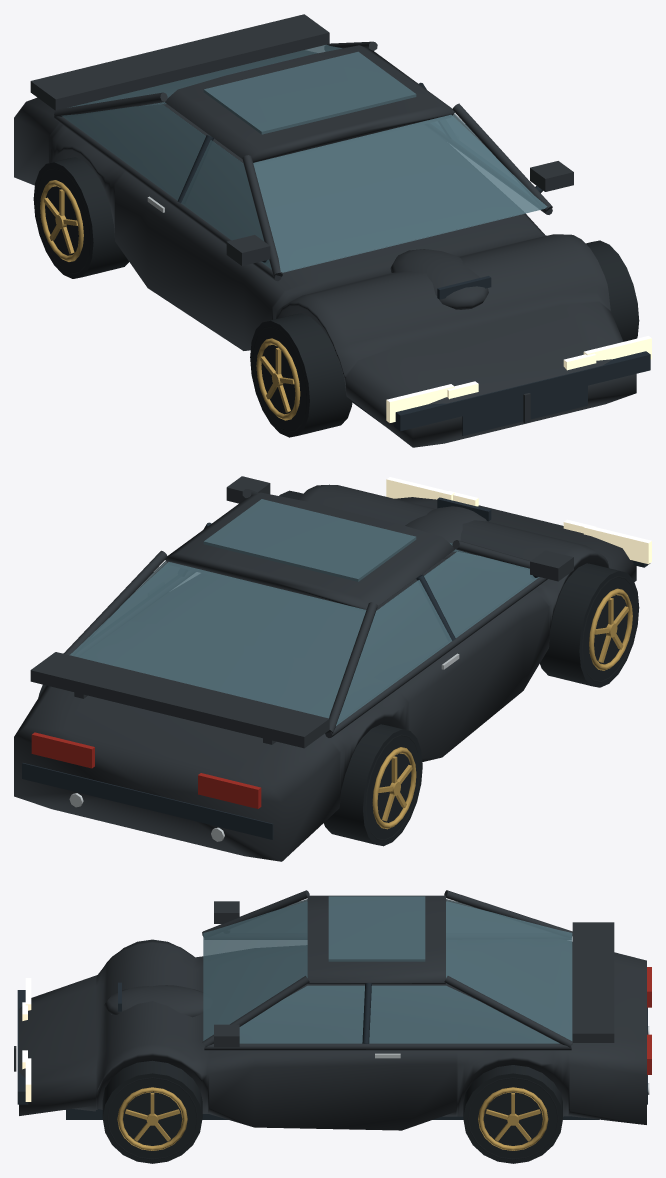
The model's file is firebird.glb.
The picture shows the model from 3 angles, top to bottom: view 1: azimuth 30°, elevation 25°; view 2: azimuth 150°, elevation 25°; view 3: azimuth 270°, elevation 25°; orthographic projection. The views are drawn at different scales.
Visible parts, largest first — view 1: exterior-paint, windows, black-trim, tire-front-left, tire-rear-left, headlights, tire-front-right, rim-front-left, rim-rear-left; view 2: exterior-paint, windows, tire-front-left, tire-rear-left, black-trim, taillights, headlights, rim-rear-left, rim-front-left; view 3: exterior-paint, windows, tire-front-right, tire-rear-right, black-trim, rim-front-right, rim-rear-right, headlights, taillights.
Boxes of the visible parts, left/top/right/bottom form: exterior-paint: left=14, top=14, right=636, bottom=447; windows: left=61, top=44, right=547, bottom=272; black-trim: left=177, top=82, right=650, bottom=435; tire-front-left: left=250, top=313, right=352, bottom=437; tire-rear-left: left=33, top=157, right=128, bottom=278; headlights: left=386, top=336, right=651, bottom=422; tire-front-right: left=586, top=240, right=639, bottom=341; rim-front-left: left=256, top=338, right=300, bottom=420; rim-rear-left: left=40, top=180, right=83, bottom=261; exterior-paint: left=14, top=476, right=636, bottom=861; windows: left=69, top=499, right=539, bottom=725; tire-front-left: left=540, top=563, right=639, bottom=687; tire-rear-left: left=324, top=724, right=422, bottom=846; black-trim: left=22, top=497, right=650, bottom=839; taillights: left=31, top=732, right=261, bottom=808; headlights: left=386, top=477, right=651, bottom=564; rim-rear-left: left=372, top=747, right=416, bottom=829; rim-front-left: left=589, top=588, right=632, bottom=670; exterior-paint: left=14, top=890, right=646, bottom=1130; windows: left=203, top=896, right=572, bottom=1043; tire-front-right: left=102, top=1060, right=202, bottom=1163; tire-rear-right: left=463, top=1065, right=562, bottom=1163; black-trim: left=17, top=982, right=647, bottom=1119; rim-front-right: left=117, top=1087, right=187, bottom=1150; rim-rear-right: left=478, top=1087, right=548, bottom=1150; headlights: left=22, top=978, right=31, bottom=1101; taillights: left=647, top=967, right=651, bottom=1074.
Bounding box in the file's own units: 2.02 × 1.16 × 3.96.
